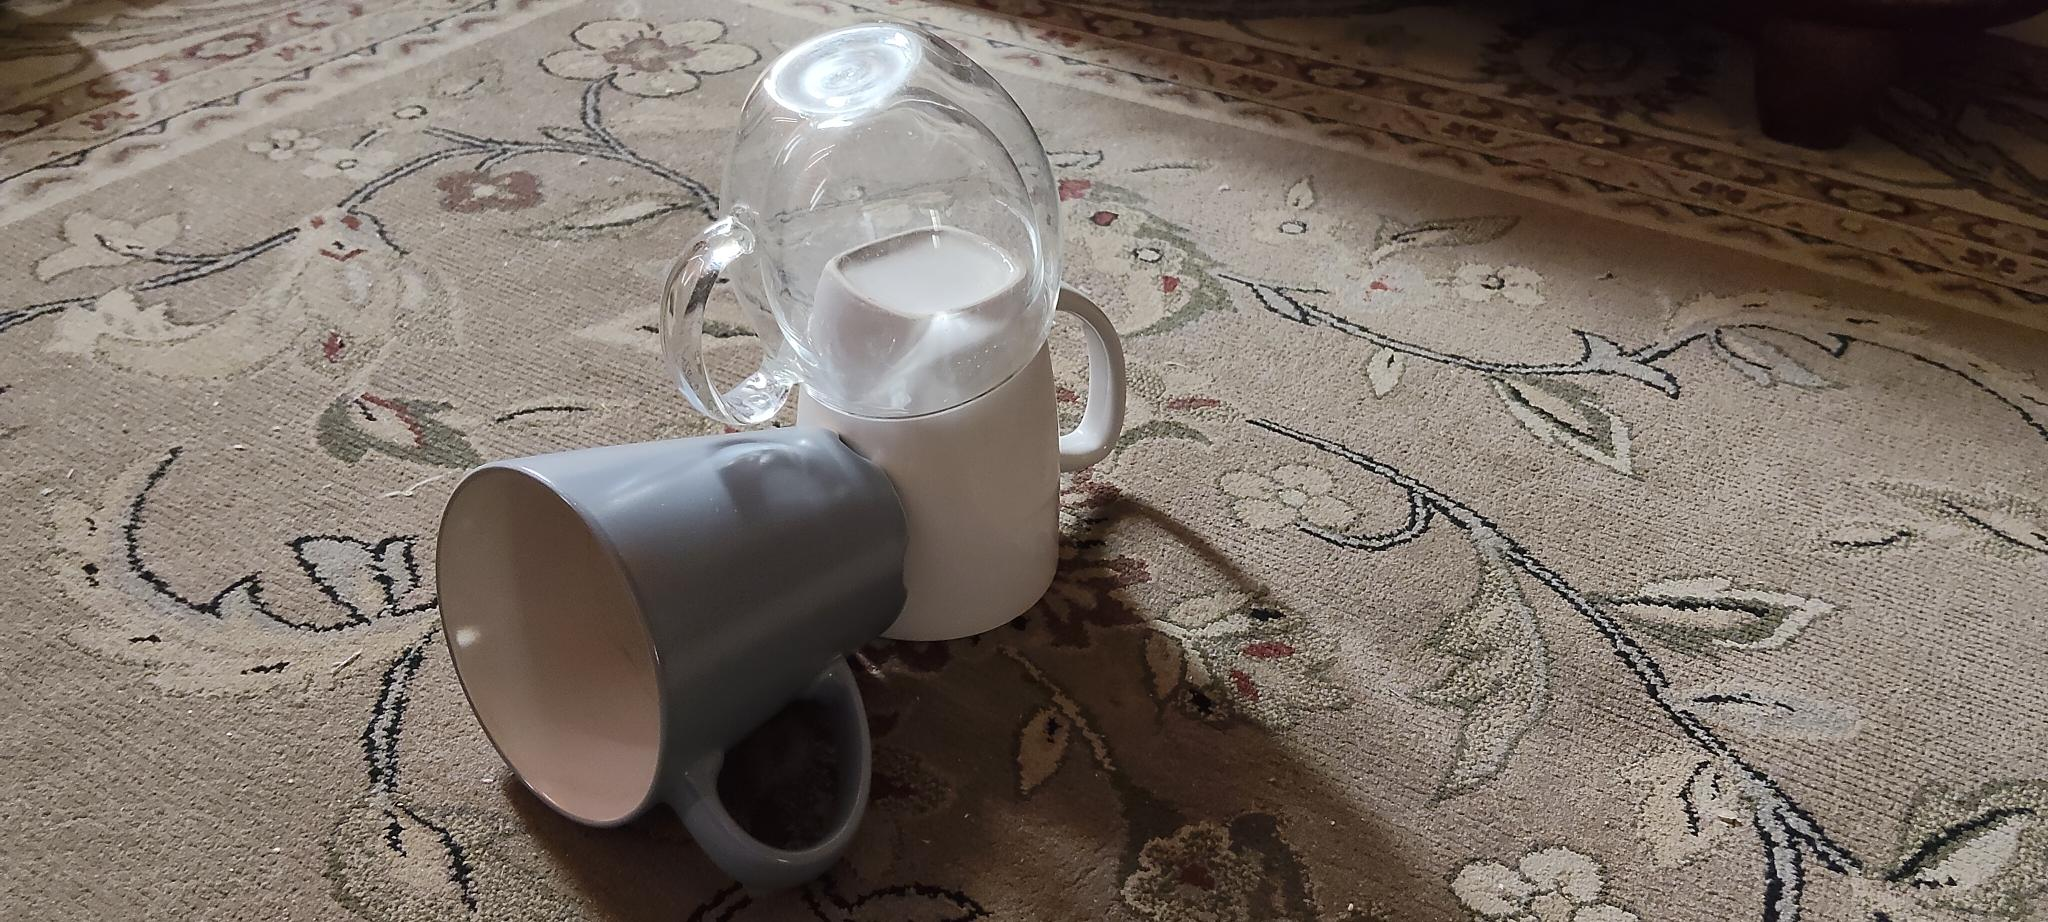Mug: (430, 425, 908, 881), (662, 26, 1068, 451), (793, 224, 1132, 638)
